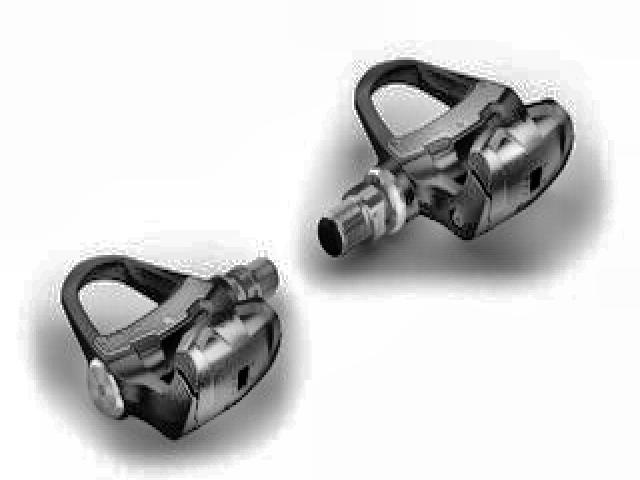pedal: (316, 46, 580, 279), (54, 232, 286, 444)
